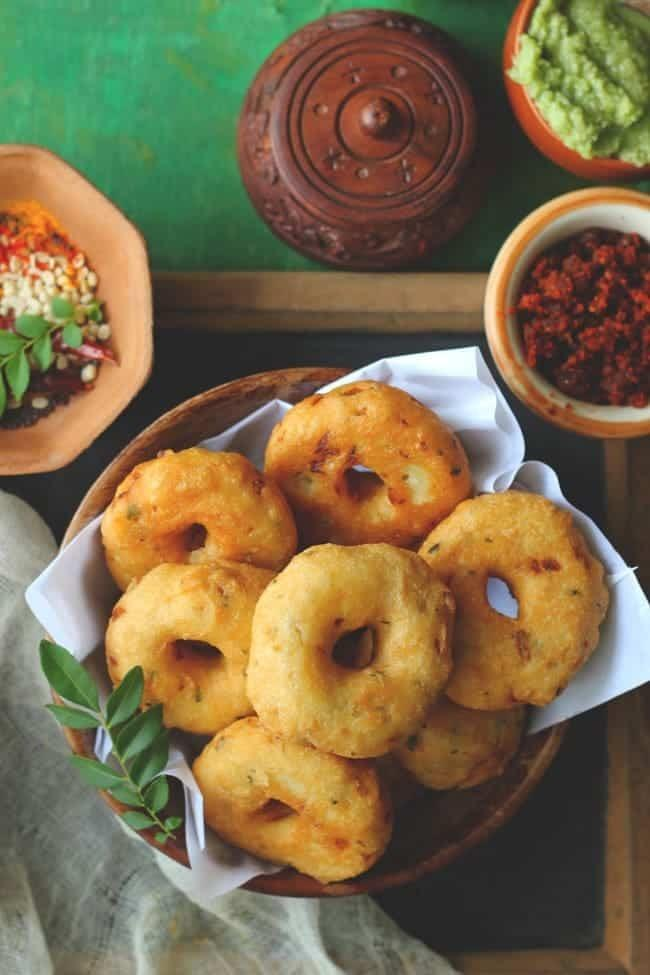medu vada: (95, 449, 613, 879)
